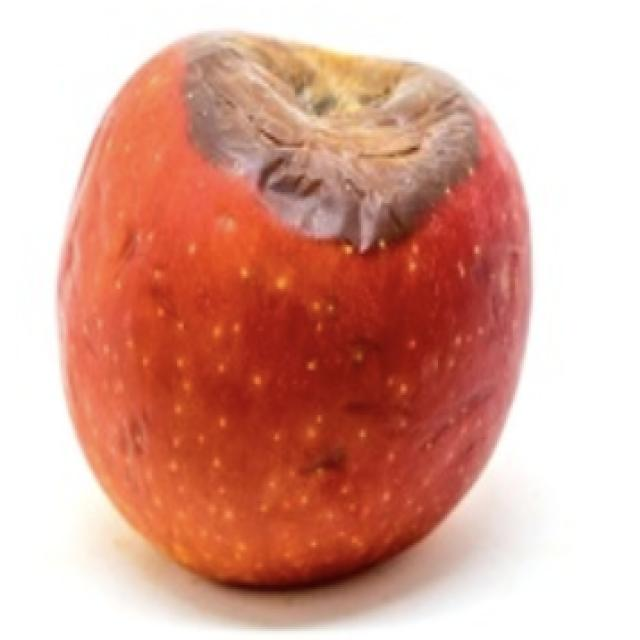apple: (59, 34, 530, 584)
